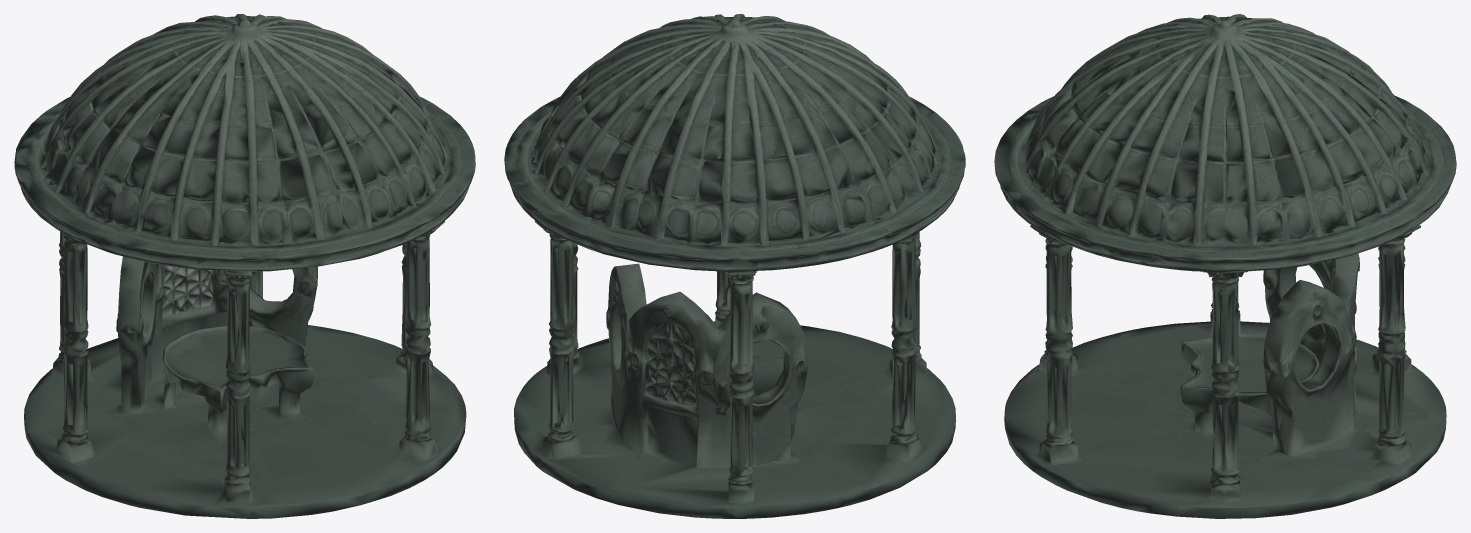
Rendered from gothic-pavilion.glb.
The picture shows the model from 3 angles, left to right: view 1: azimuth 30°, elevation 25°; view 2: azimuth 150°, elevation 25°; view 3: azimuth 270°, elevation 25°; orthographic projection.
Size of the model in its own units: 1.9 by 1.84 by 1.9.
1 material, 1 textured.
